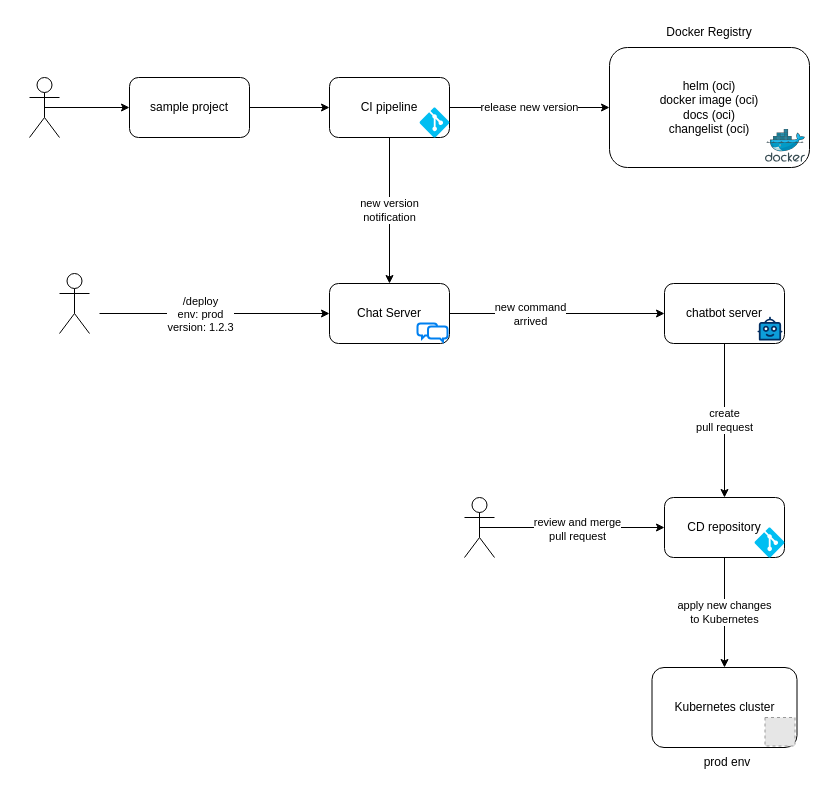
The diagram is 827 pixels wide and 794 high, and some of its shapes have lost their labels. Grey dashed boxes stand in for pictures. The centre of each missing label's shape, as x and y in pixels:
"Developer" belongs at (x=44, y=107).
"Devops Engineer" belongs at (x=479, y=527).
"Product Owner" belongs at (x=74, y=303).
